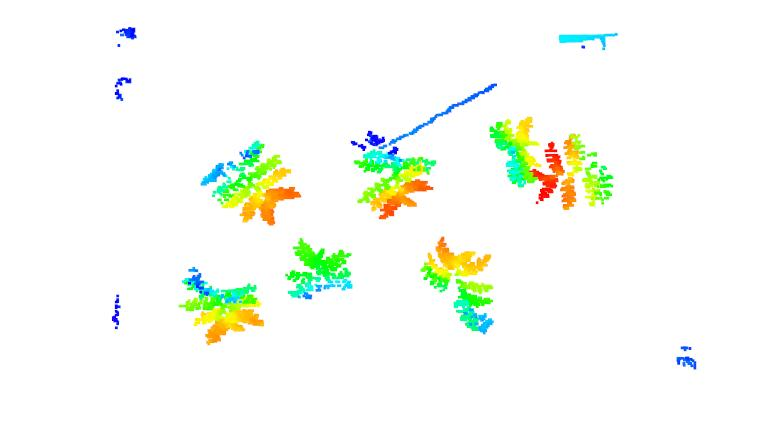chickpea: (204, 141, 301, 225), (423, 239, 498, 337), (352, 132, 437, 217), (533, 132, 613, 211), (182, 271, 264, 345), (488, 114, 542, 187), (287, 241, 354, 298)
